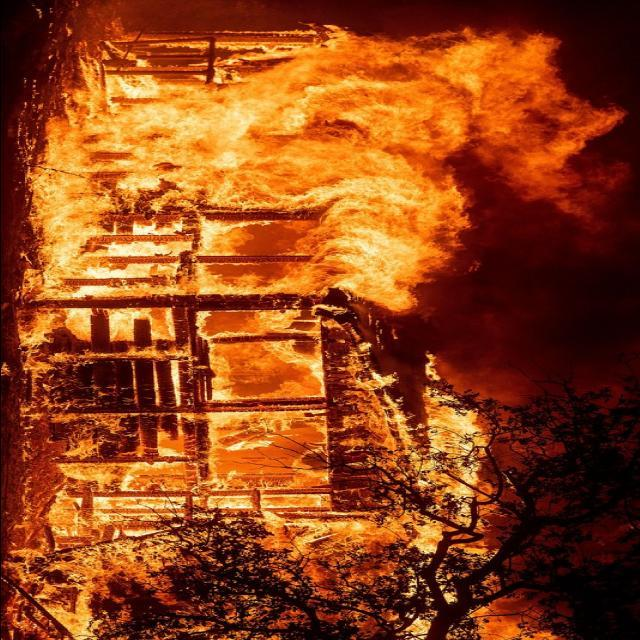Fire: (21, 27, 602, 640)
